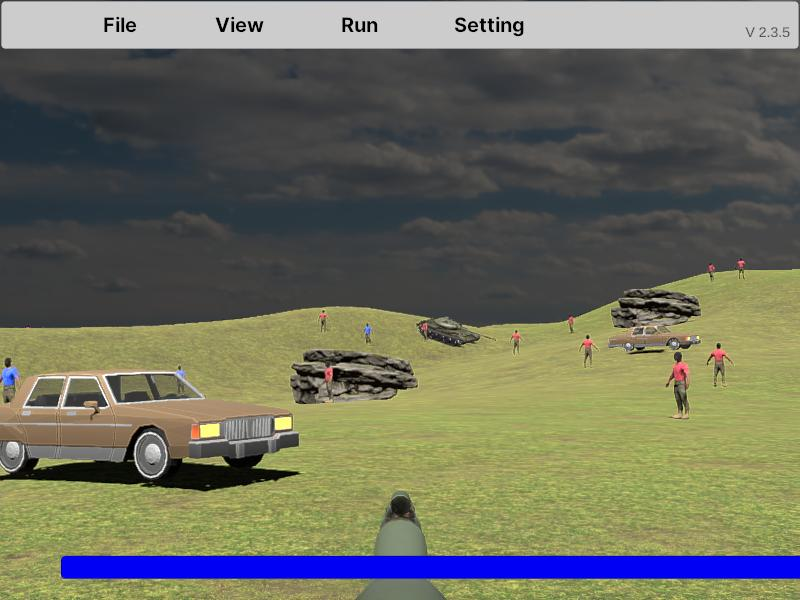Human: (666, 351, 690, 420), (706, 342, 734, 388), (0, 357, 21, 417), (322, 359, 335, 406)
Tank: (416, 315, 496, 347)
car: (0, 368, 299, 483), (608, 326, 701, 353)
